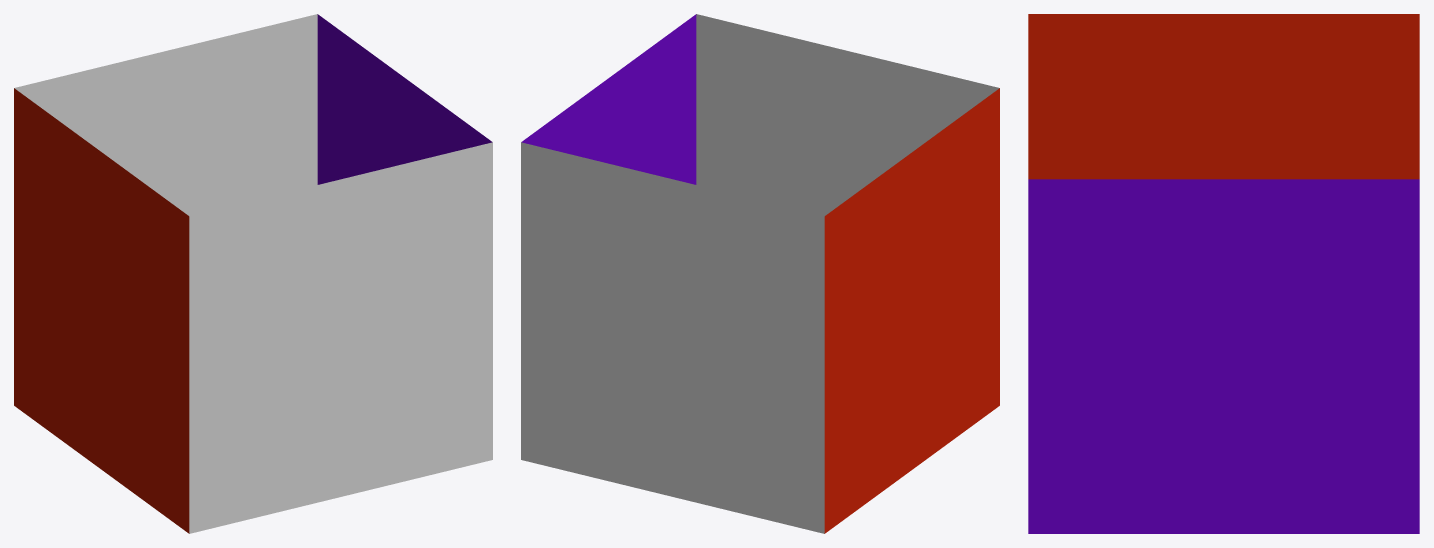
File: cornel.fbx
The picture shows the model from 3 angles, left to right: view 1: azimuth 30°, elevation 25°; view 2: azimuth 150°, elevation 25°; view 3: azimuth 270°, elevation 25°; orthographic projection. The views are drawn at different scales.
Parts seen in each view (by area): view 1: down, left, up.001, up, right, Cylinder; view 2: up, left, down, right; view 3: right, left.
Part boxes in pixels (x1,y1,x2,y2): down: (189,142,492,533); left: (14,88,189,533); up.001: (59,66,280,216); up: (14,14,317,193); right: (317,14,492,184); Cylinder: (226,347,323,451); up: (521,142,824,533); left: (824,88,999,533); down: (696,14,999,216); right: (521,14,696,184); right: (1028,179,1419,533); left: (1028,14,1419,179).
Size of the model in its own units: 200 by 200 by 200.
